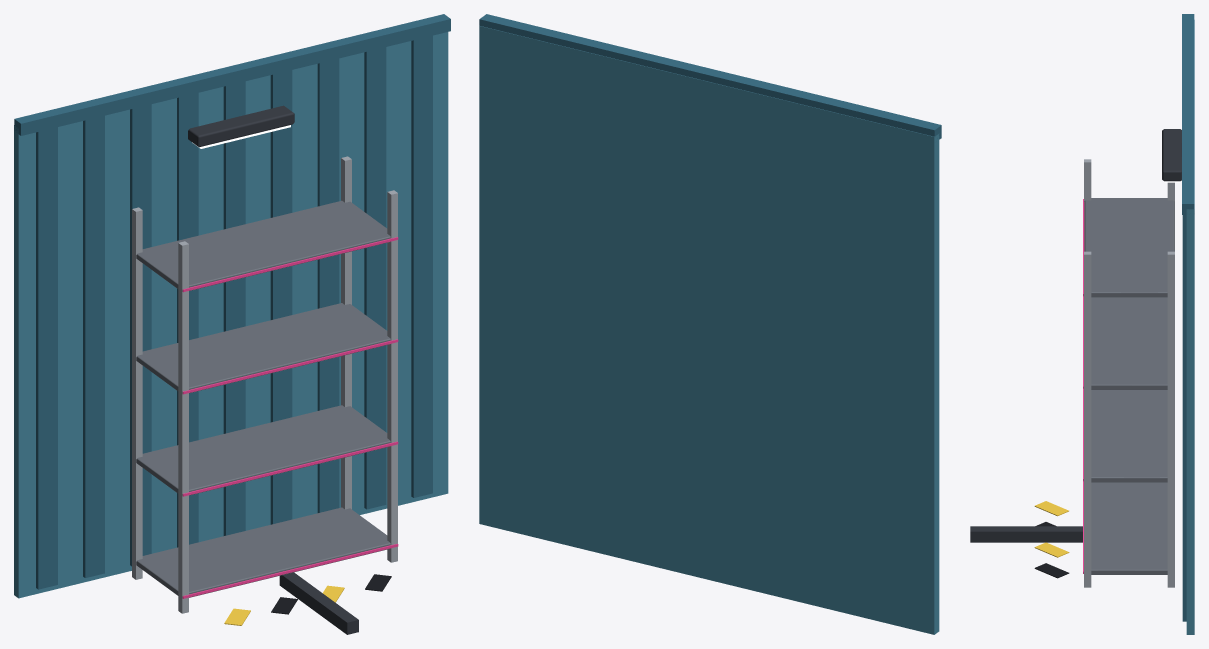
File: station_transport_basis.glb
3 renders of one model, left to right at view 1: azimuth 30°, elevation 25°; view 2: azimuth 150°, elevation 25°; view 3: azimuth 270°, elevation 25°, orthographic. The views are drawn at different scales.
Parts seen in each view (by area): view 1: station_transport_basis; view 2: station_transport_basis; view 3: station_transport_basis.
Boxes of the visible parts, box(x1,y1,x2,y2) form: station_transport_basis: box(14, 14, 450, 634); station_transport_basis: box(479, 14, 941, 634); station_transport_basis: box(970, 14, 1194, 634).
Size of the model in its own units: 2.2 by 2.33 by 1.1.
